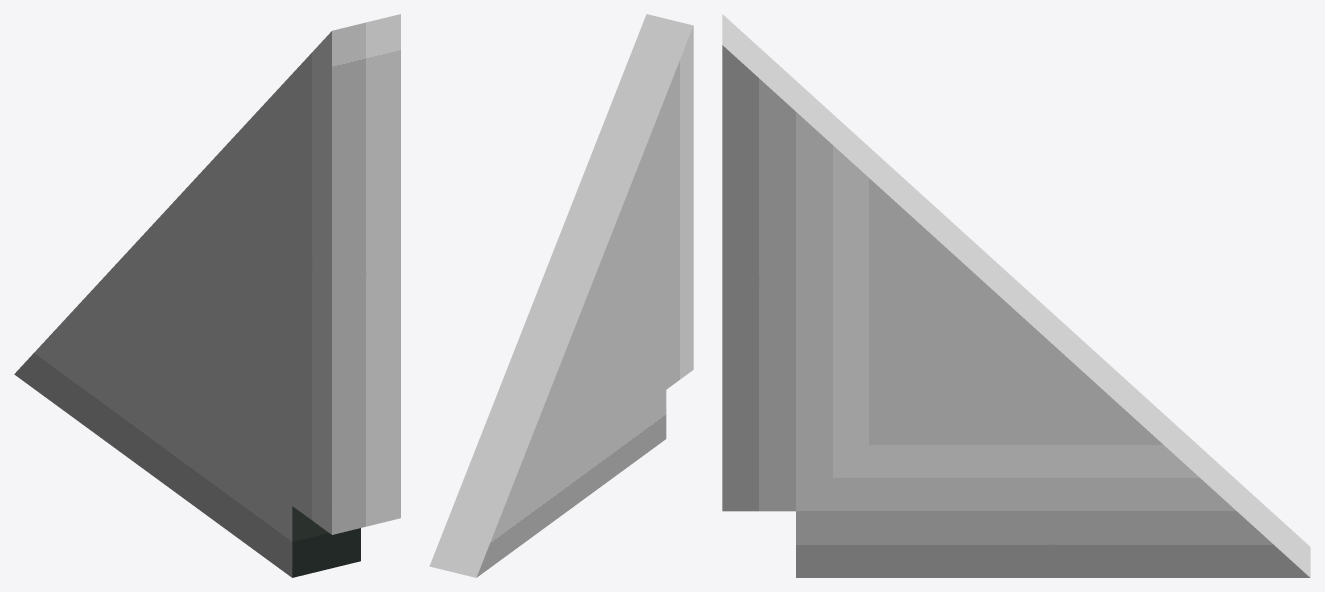
File: end_cap_bench_left.obj
3 views of the same model, side by side, from view 1: azimuth 30°, elevation 25°; view 2: azimuth 150°, elevation 25°; view 3: azimuth 270°, elevation 25° (orthographic). The views are drawn at different scales.
Size of the model in its own units: 0.125 by 1 by 1.
